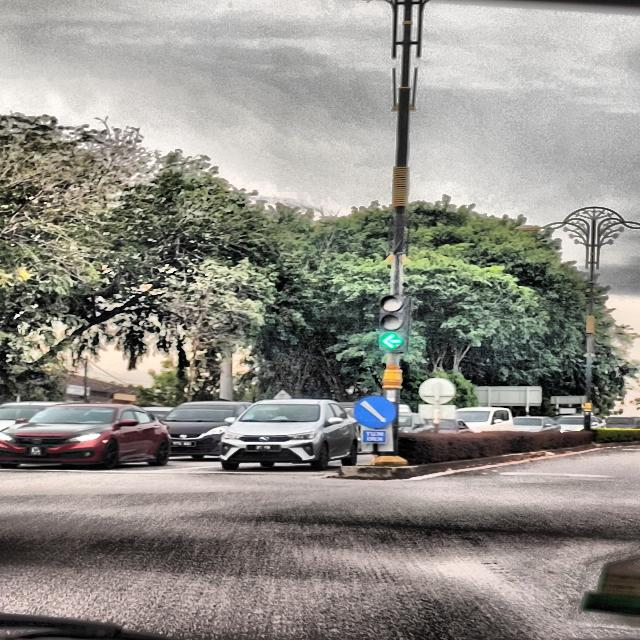green: (378, 294, 405, 350)
